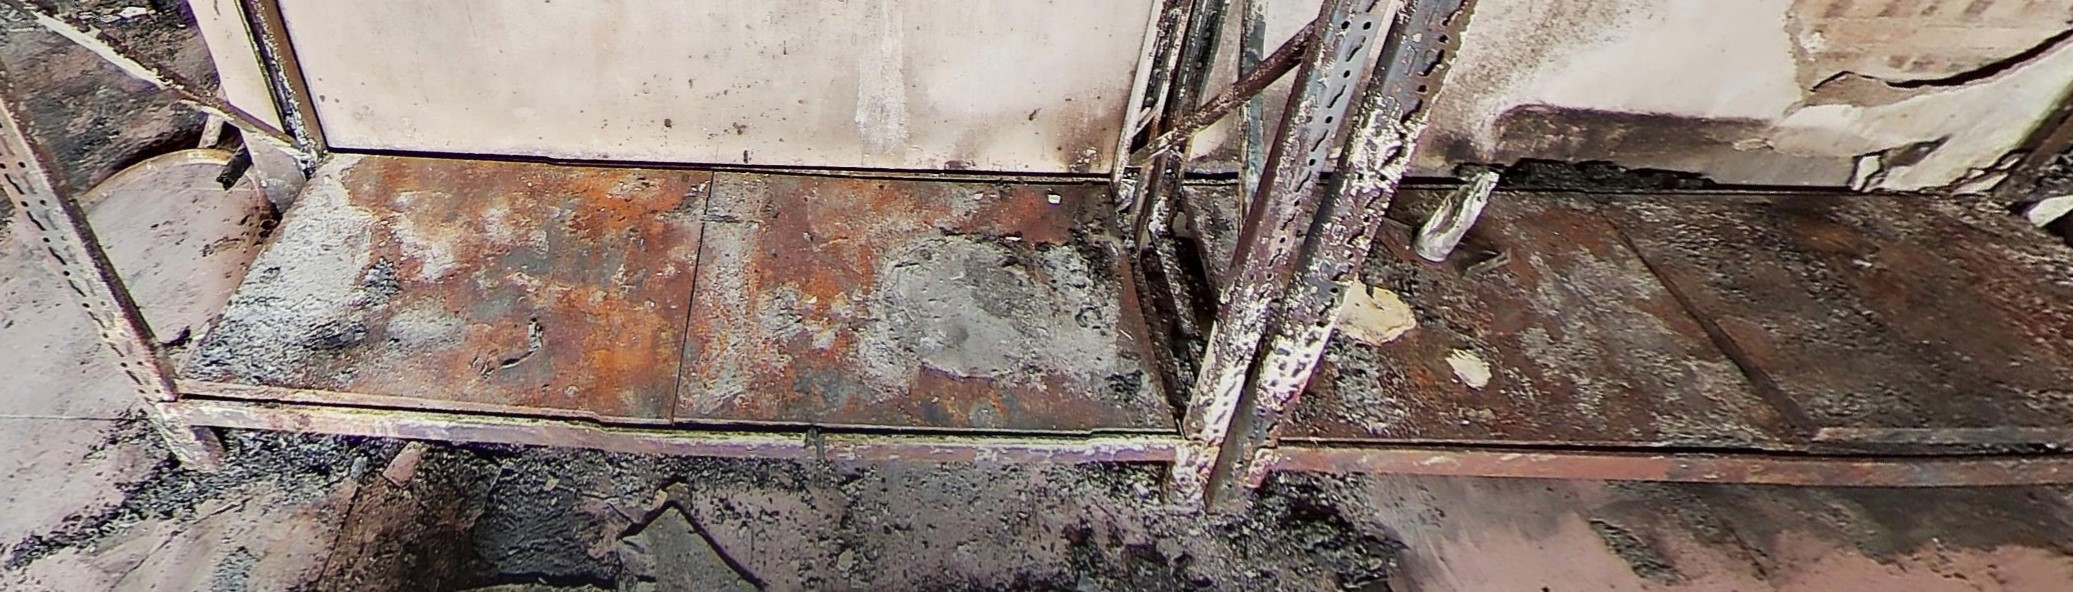Damage_level1: (698, 11, 1040, 168), (331, 11, 549, 148), (1497, 114, 1828, 194)
Damage_level2: (1441, 7, 1686, 106), (1048, 85, 1122, 166)
Damage_level4: (1746, 7, 2029, 157)
